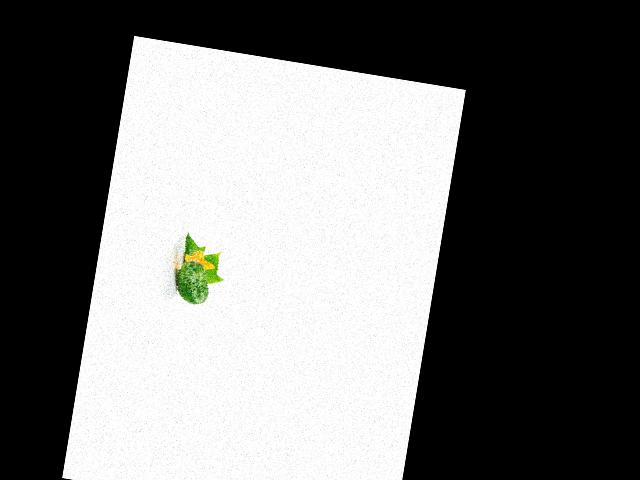cucumber: (173, 260, 212, 306)
